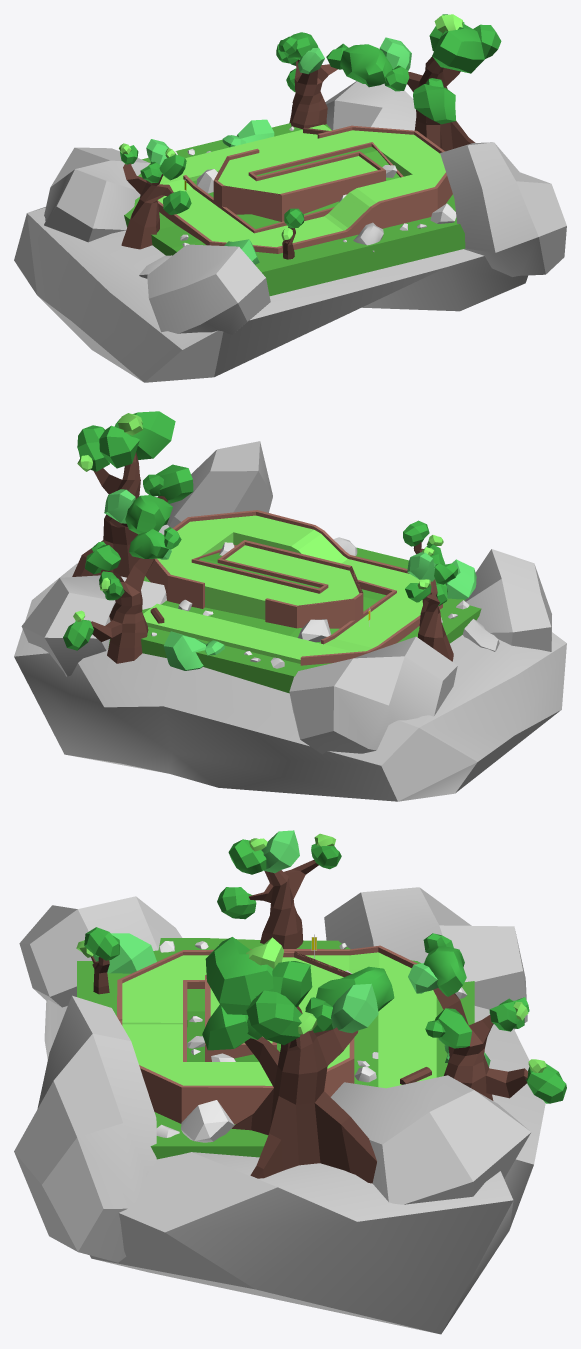
The model's file is BlenderCourse3.fbx.
The picture shows the model from 3 angles, top to bottom: view 1: azimuth 30°, elevation 25°; view 2: azimuth 150°, elevation 25°; view 3: azimuth 270°, elevation 25°; orthographic projection. The views are drawn at different scales.
Parts seen in each view (by area): view 1: rock.240, Cube.022, rock.243, Cube.023, Cube.026, rock.273, rock.242, rock.241, Cylinder.023, Cylinder.022, Cylinder.025, rock.279 (+10 smaller); view 2: rock.240, Cube.022, rock.242, Cube.023, Cube.026, rock.273, rock.241, rock.243, Cylinder.025, Cylinder.022, rock.279, Cylinder.023 (+14 smaller); view 3: rock.240, rock.243, rock.241, Cube.022, Cylinder.022, rock.242, Cube.026, Cube.023, rock.273, Cylinder.025, rock.279, Cylinder.023 (+18 smaller).
Part boxes in pixels (<box>): rock.240: <box>14,207,528,382</box>; Cube.022: <box>158,124,445,247</box>; rock.243: <box>440,142,566,276</box>; Cube.023: <box>157,125,452,253</box>; Cube.026: <box>124,123,465,295</box>; rock.273: <box>147,244,270,334</box>; rock.242: <box>44,147,150,242</box>; rock.241: <box>325,81,416,130</box>; Cylinder.023: <box>121,163,173,249</box>; Cylinder.022: <box>407,56,475,151</box>; Cylinder.025: <box>289,59,337,129</box>; rock.279: <box>432,24,484,73</box>; rock.240: <box>14,563,566,801</box>; Cube.022: <box>143,515,422,663</box>; rock.242: <box>289,636,457,754</box>; Cube.023: <box>145,510,442,665</box>; Cube.026: <box>108,547,481,693</box>; rock.273: <box>465,549,551,651</box>; rock.241: <box>21,575,166,676</box>; rock.243: <box>165,441,272,528</box>; Cylinder.025: <box>91,558,154,663</box>; Cylinder.022: <box>72,452,167,577</box>; rock.279: <box>114,411,175,459</box>; Cylinder.023: <box>418,579,453,661</box>; rock.240: <box>44,1000,545,1334</box>; rock.243: <box>14,995,156,1262</box>; rock.241: <box>330,1075,531,1204</box>; Cube.022: <box>122,952,436,1088</box>; Cylinder.022: <box>232,1006,376,1183</box>; rock.242: <box>324,887,527,1029</box>; Cube.026: <box>77,938,474,1159</box>; Cube.023: <box>117,945,417,1124</box>; rock.273: <box>19,896,182,1007</box>; Cylinder.025: <box>433,988,528,1100</box>; rock.279: <box>205,937,273,1014</box>; Cylinder.023: <box>249,860,318,948</box>.
Bounding box in the file's own units: 2254 × 1396 × 1787.
